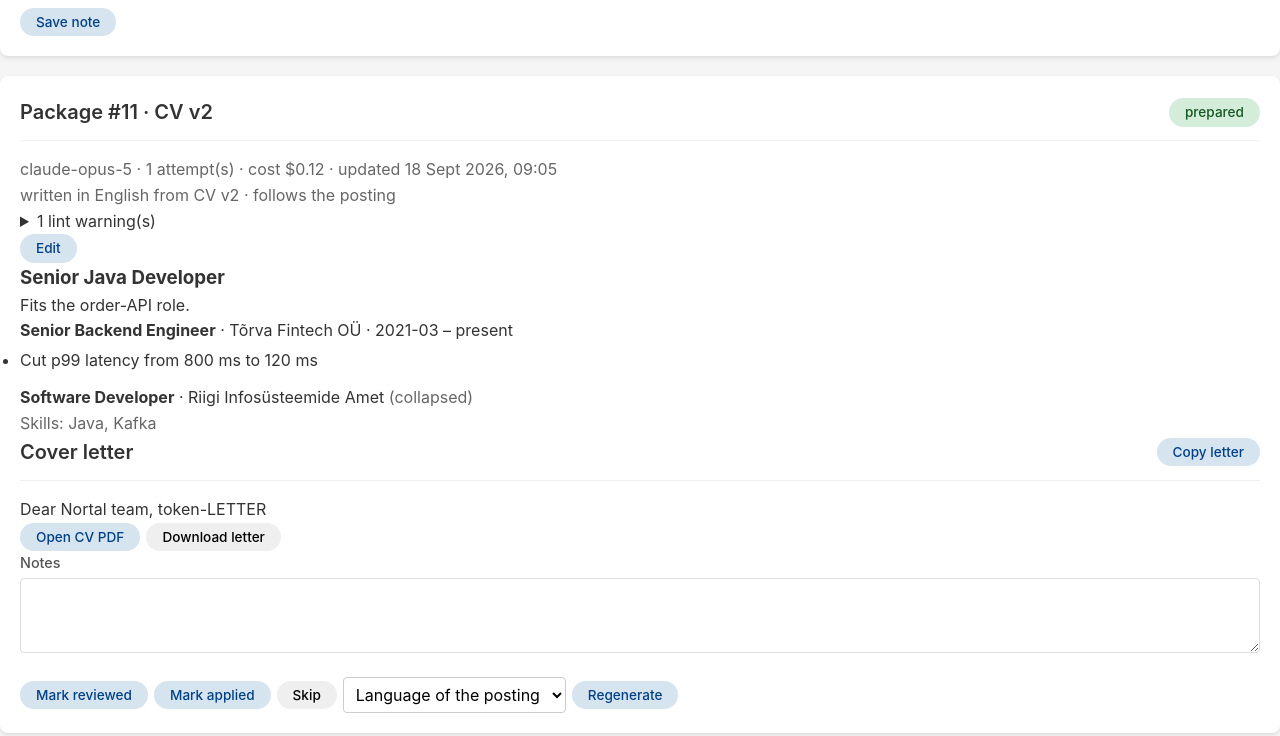
Test case: MasiJobDetail › regenerated in another language, a package hands over to that CV's package: both are listed, the new one first
(page scrolled)
Step 1. Select "Estonian" in the dropdown named "Language of package #11" → (454, 695), box [343,677,566,713]
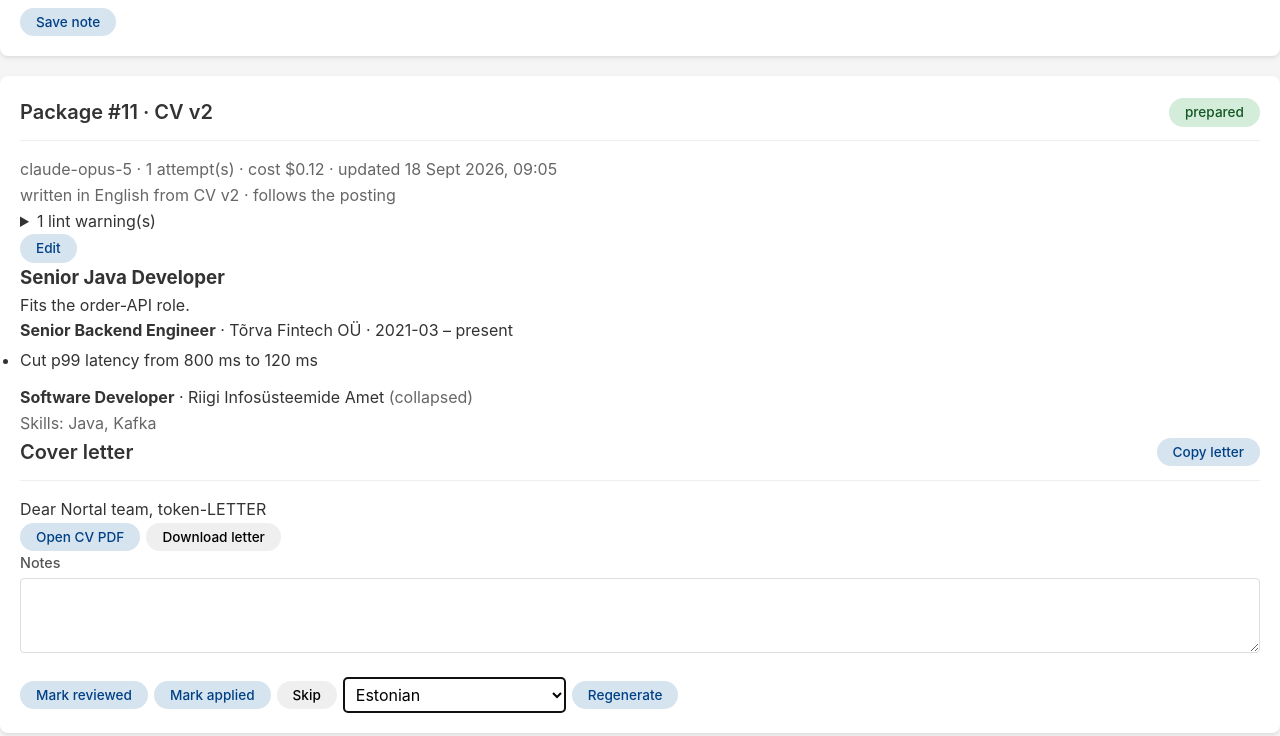
Step 2. Click the button "Regenerate" → (625, 695), box [572,681,678,709]
(page scrolled)
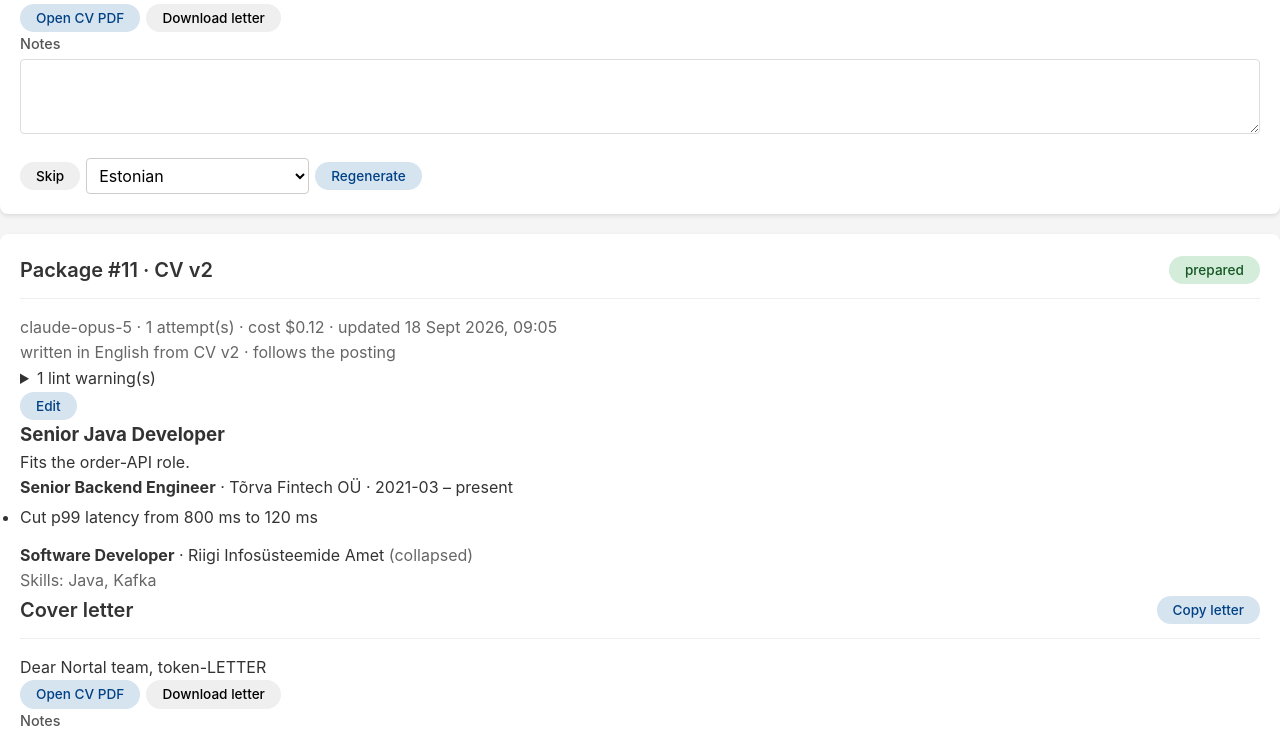
expect the text with test id "package-language" shows "written in English from CV v2": met, box [20,342,396,362]
expect the number of elements with test id "package-language" is 2: met
